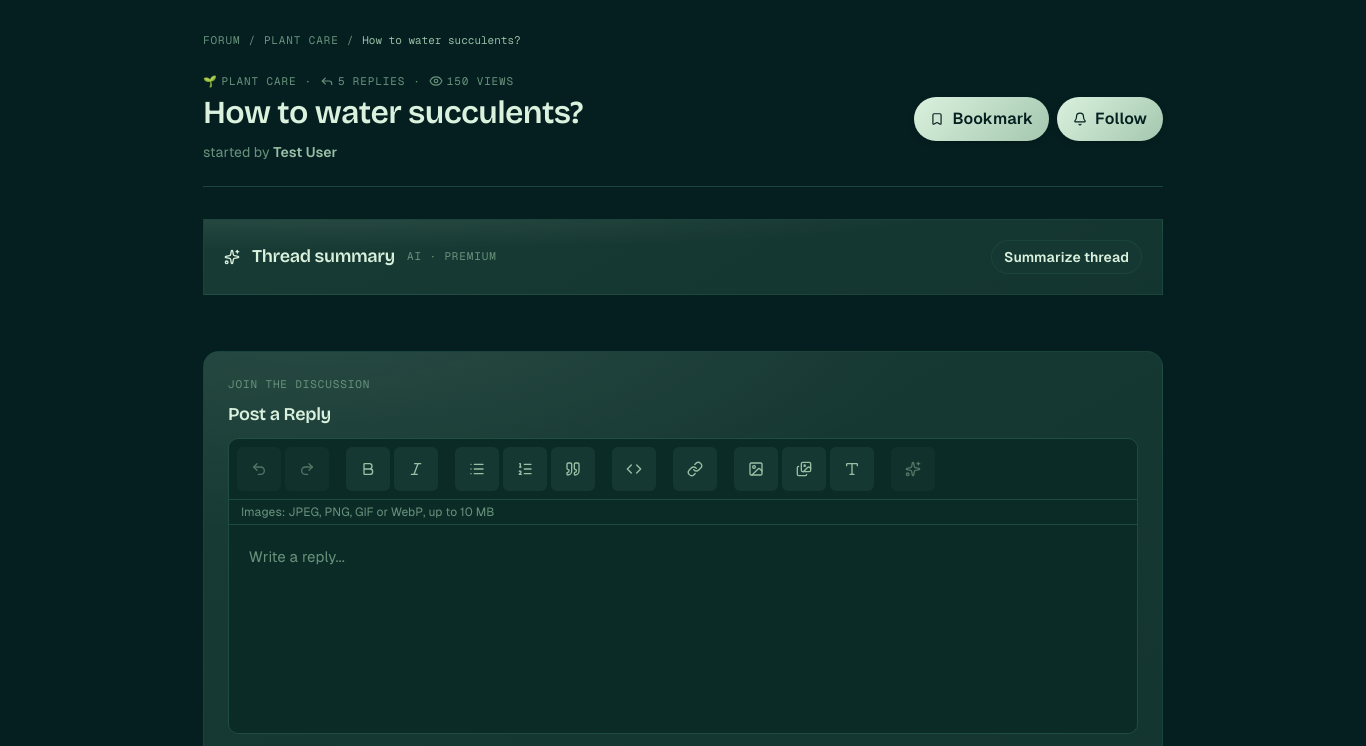
Test: ThreadDetailPage › clicking Follow subscribes and flips the button to Following
Step 1. Click the button "Follow" → (1110, 119), box [1057,97,1163,141]
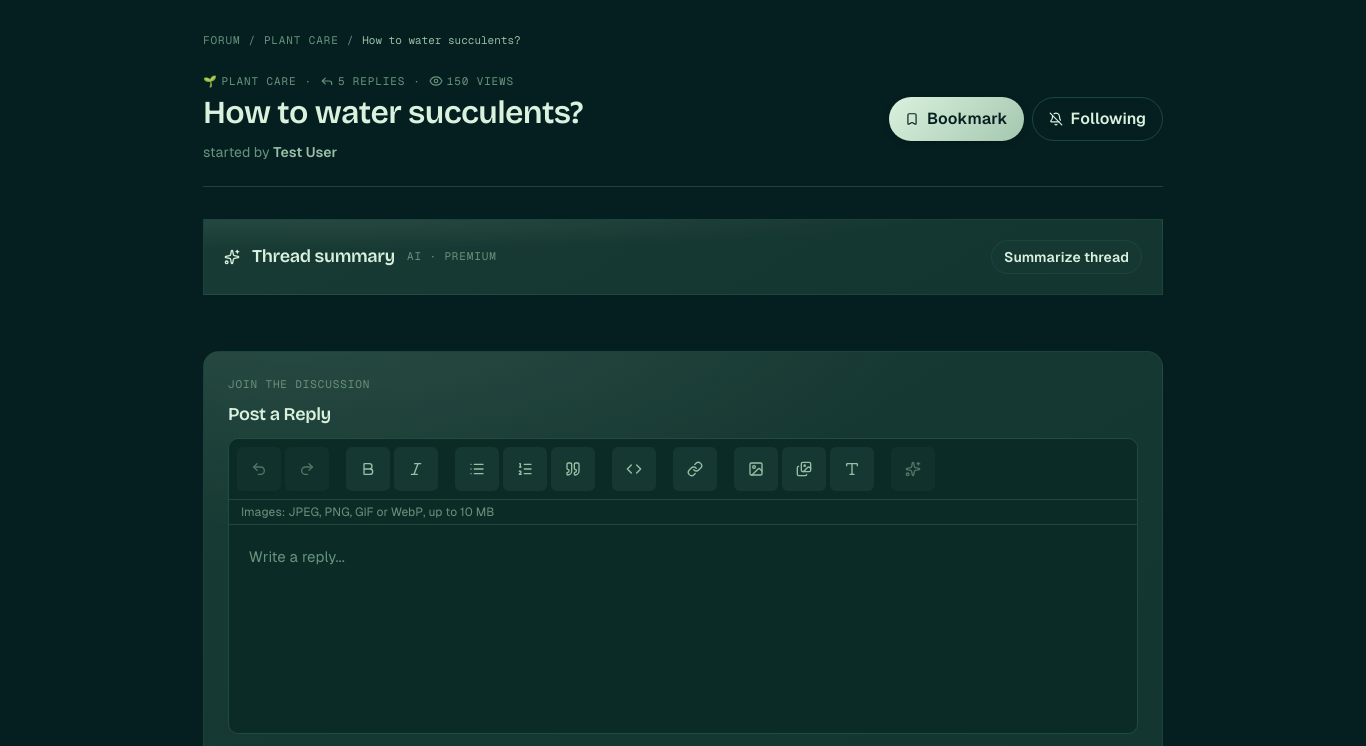
Expected: the button "Following" is shown, [1032,97,1163,141]
